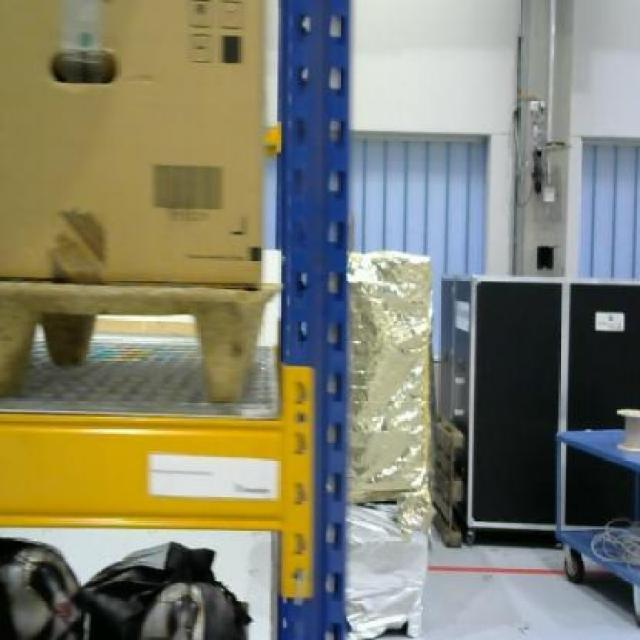box: (0, 1, 265, 282)
